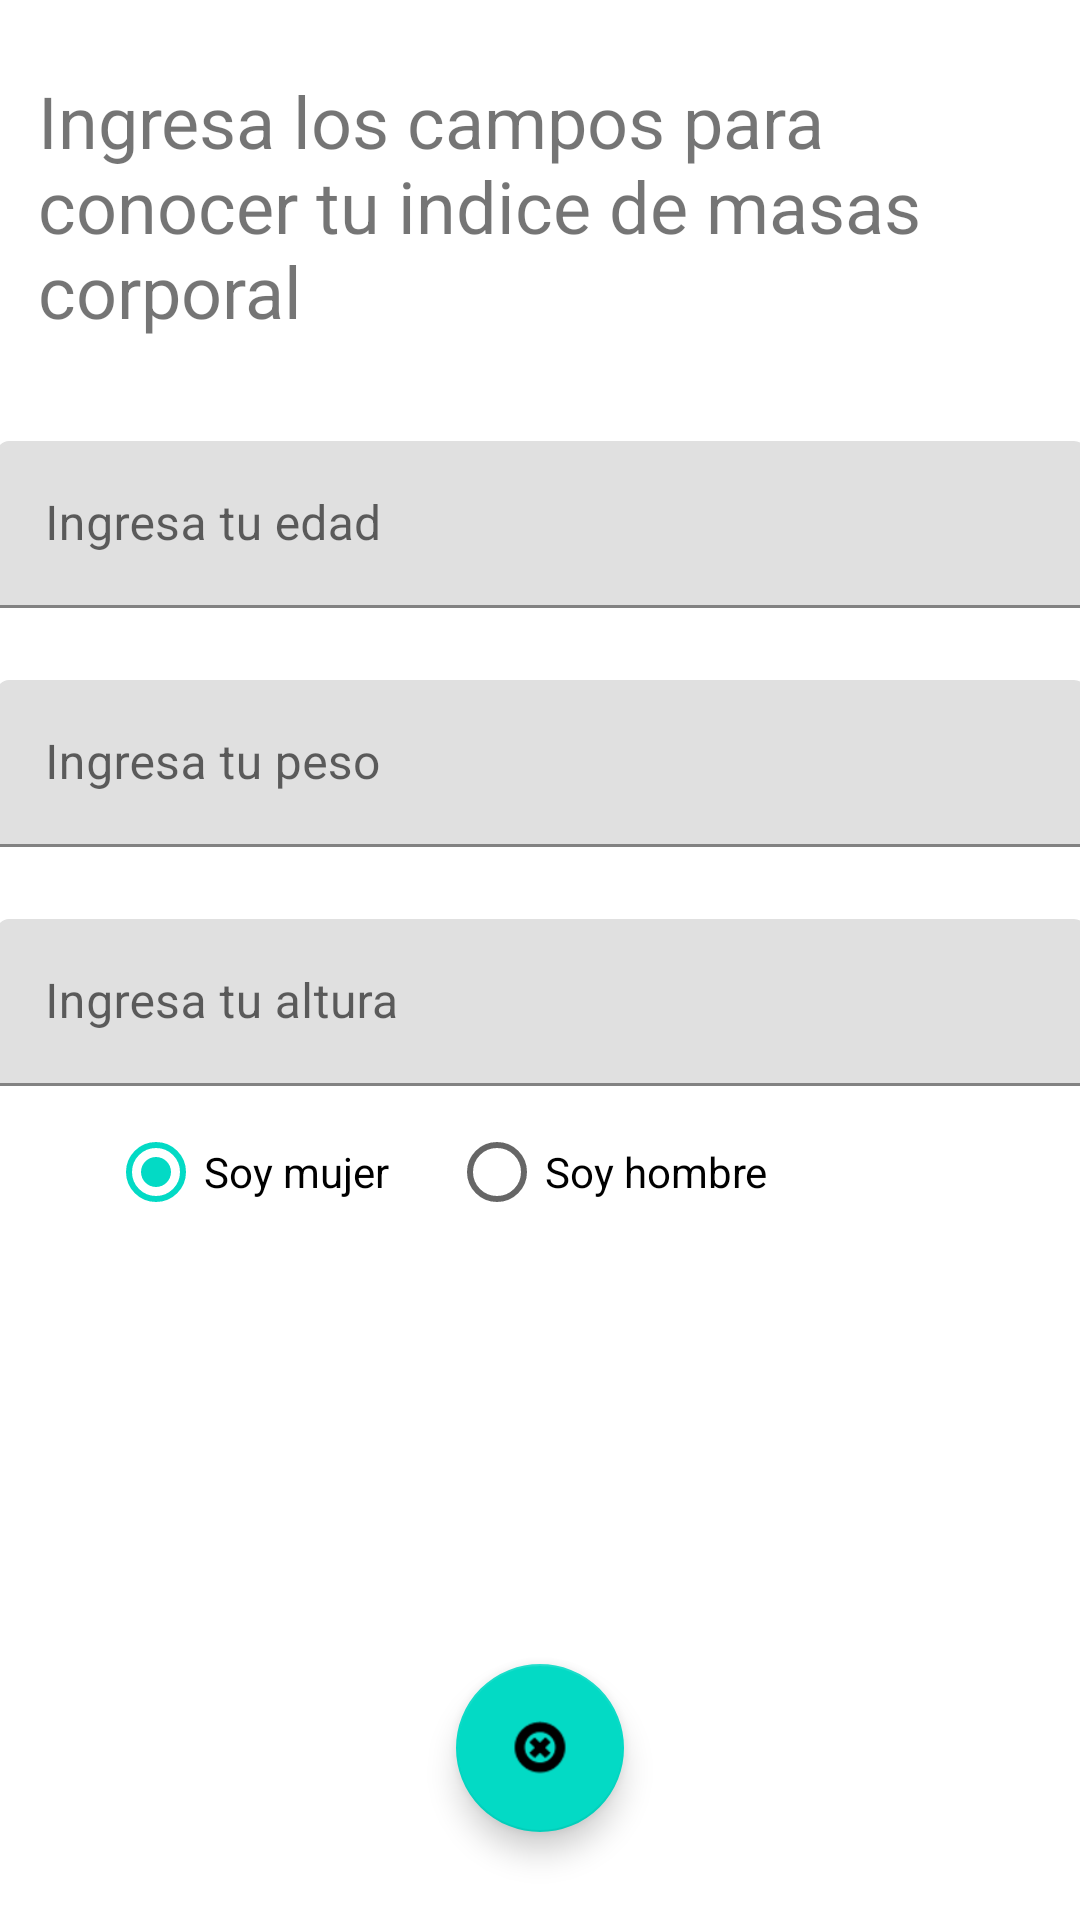

Point at icon controls on the screen. Image size 1080 x 1920, points as [x,y].
notification clear all: [540,1748]
